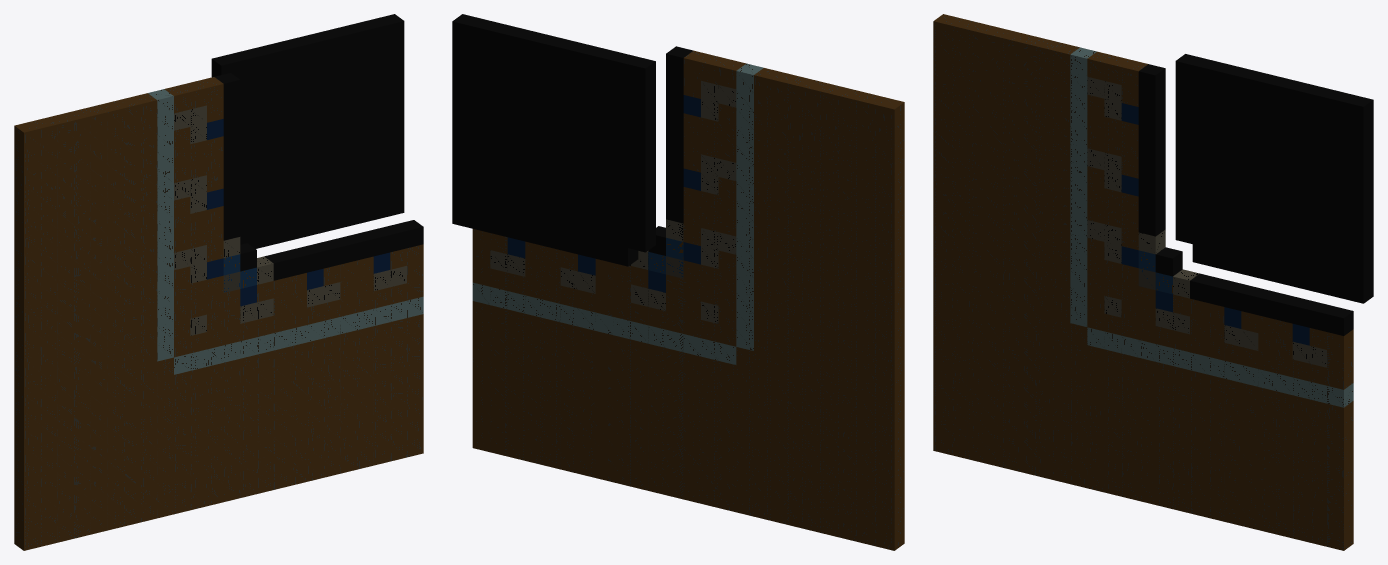
The picture shows the model from 3 angles, left to right: view 1: azimuth 30°, elevation 25°; view 2: azimuth 150°, elevation 25°; view 3: azimuth 330°, elevation 25°; orthographic projection. The views are drawn at different scales.
Bounding box in the file's own units: 2.4 × 2.4 × 0.3.
